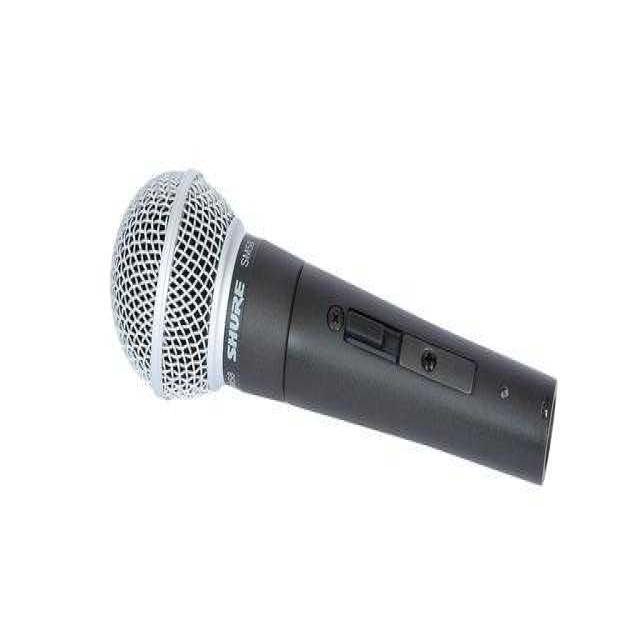microphone: (116, 166, 548, 492)
